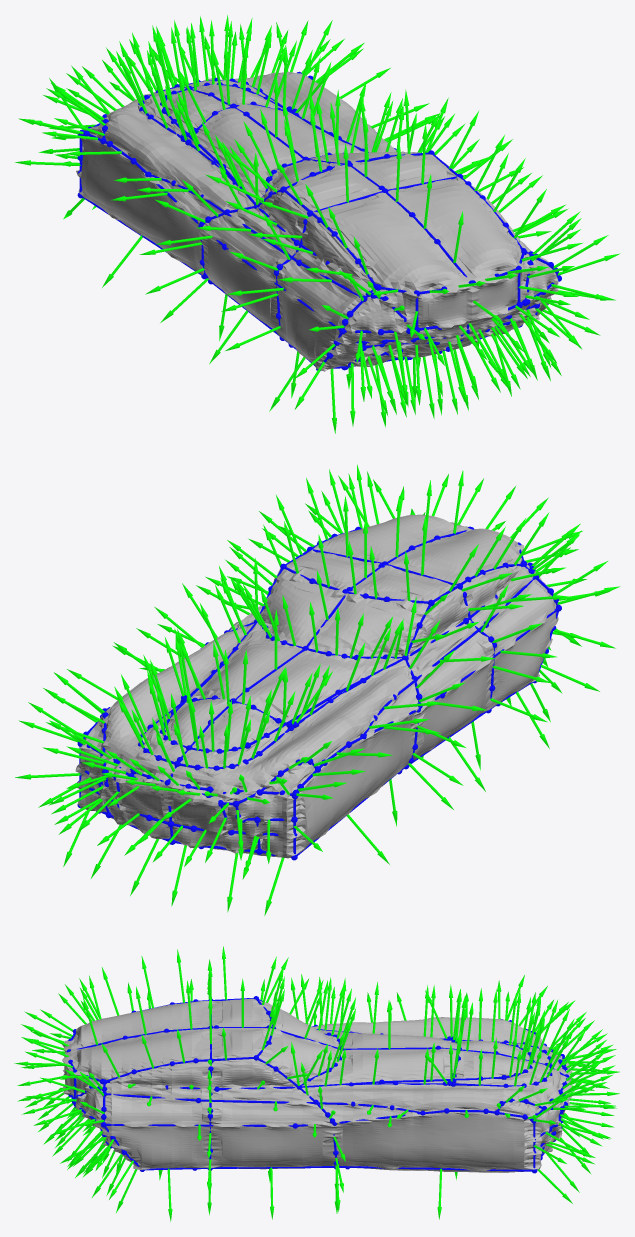
Rendered from t2f_car_93.gltf.
3 views of the same model, one above another, from view 1: azimuth 30°, elevation 25°; view 2: azimuth 150°, elevation 25°; view 3: azimuth 270°, elevation 25° (orthographic). The views are drawn at different scales.
Size of the model in its own units: 0.5696 by 0.413 by 1.1.
